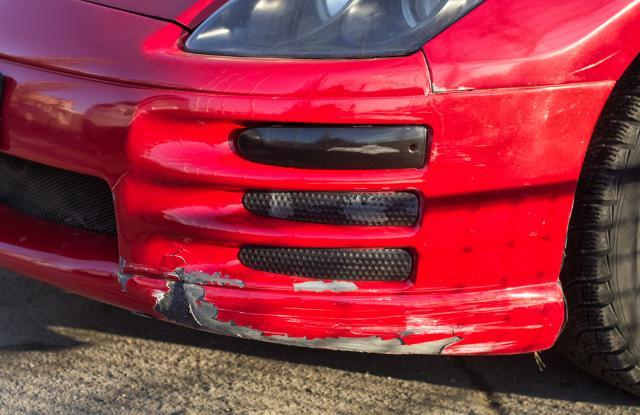rub: (120, 257, 551, 359)
scratch: (327, 143, 404, 155)
